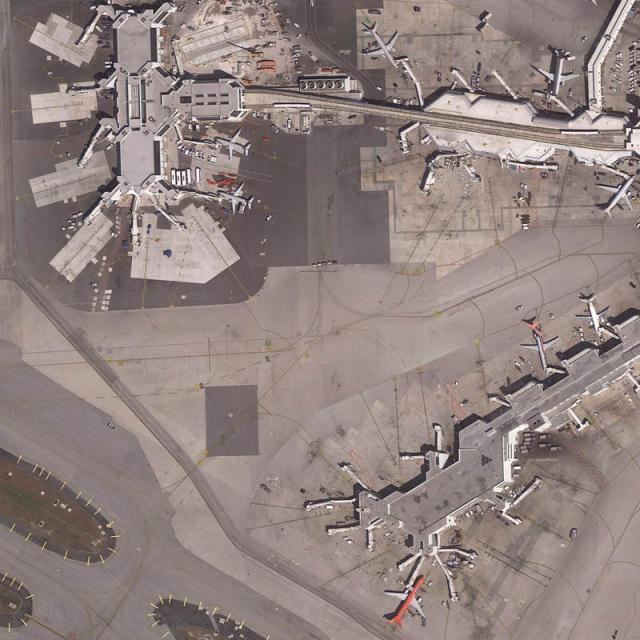vehicle: (479, 22, 490, 33), (482, 12, 493, 22), (570, 528, 578, 540), (271, 124, 279, 134), (265, 214, 273, 222), (514, 305, 524, 311), (177, 143, 184, 150), (106, 144, 113, 150), (195, 124, 199, 133), (184, 148, 189, 155), (201, 153, 206, 160), (568, 89, 572, 97), (194, 150, 198, 158), (252, 110, 256, 118), (582, 36, 587, 42), (104, 61, 114, 64), (188, 124, 192, 131), (257, 110, 260, 119), (182, 146, 186, 152), (189, 149, 192, 156)
